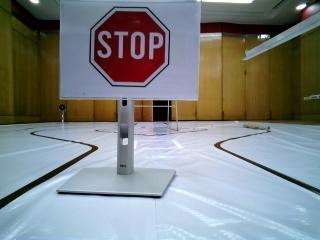stop: (55, 1, 192, 99)
